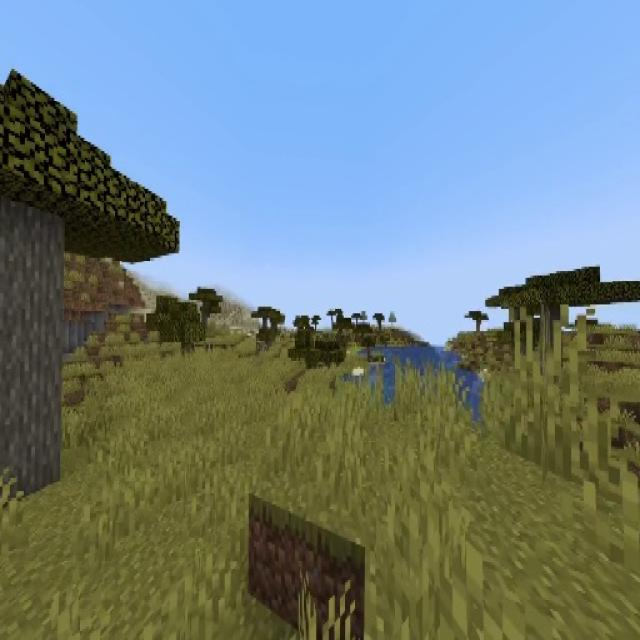acacia: (0, 70, 180, 512), (493, 262, 640, 389)
acacia_log: (0, 212, 67, 494)
oak: (166, 303, 203, 356)
